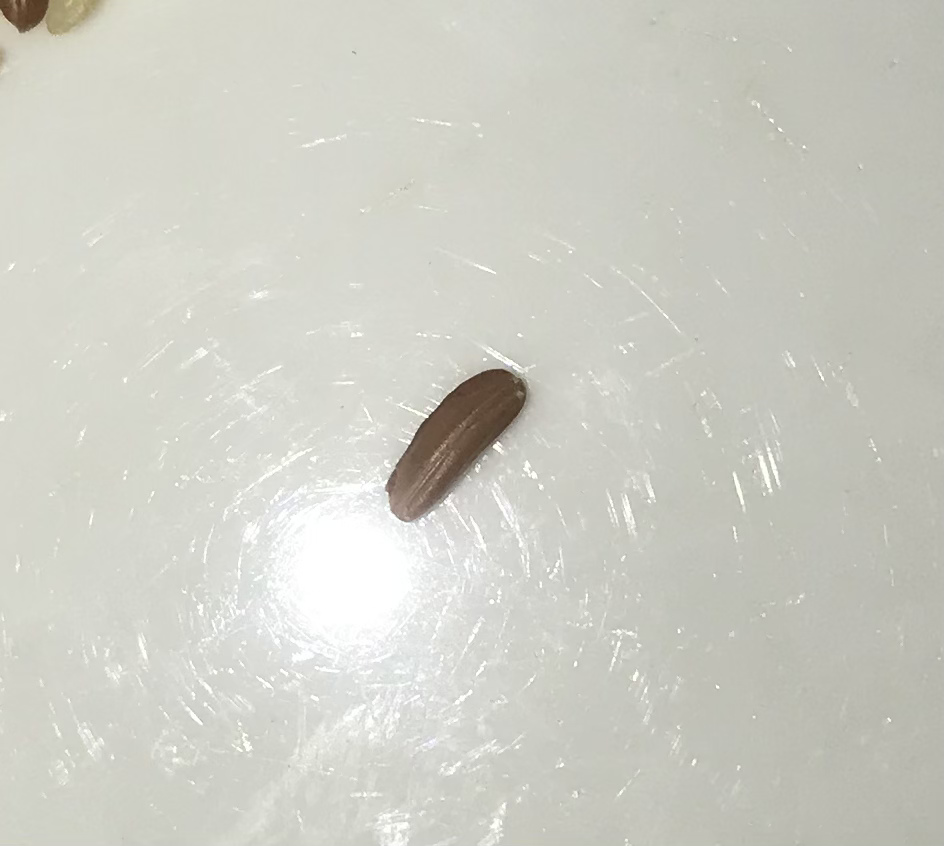Gao Lut Do: (382, 350, 542, 523)
